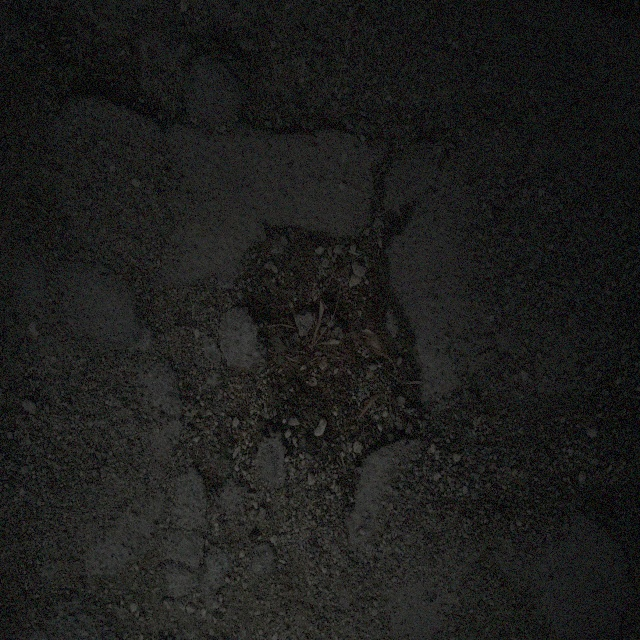pothole: (232, 201, 438, 487)
